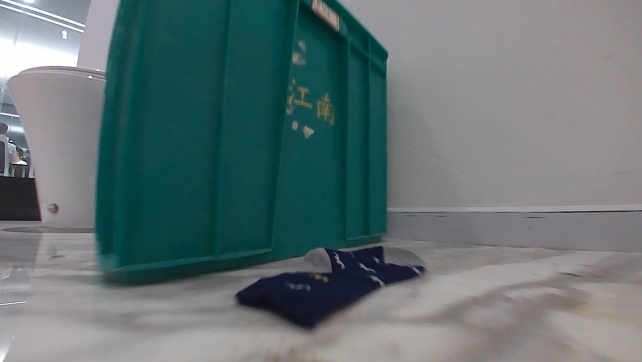socks: (232, 244, 430, 331)
toilet: (4, 62, 105, 230)
